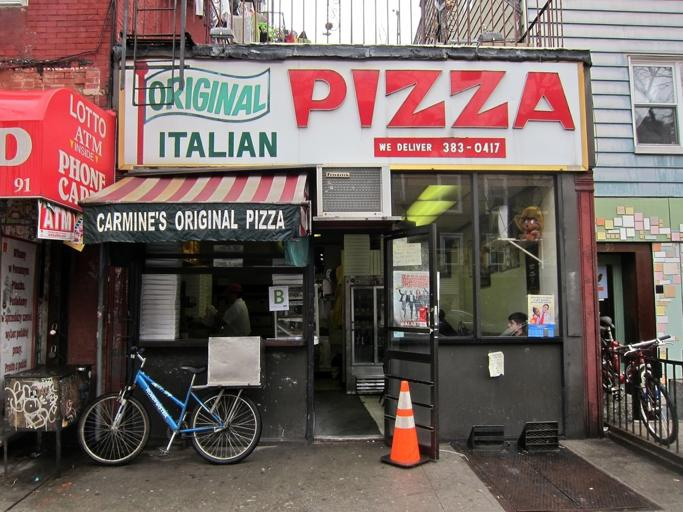non-vehicle: (75, 343, 264, 468), (598, 314, 680, 448)
